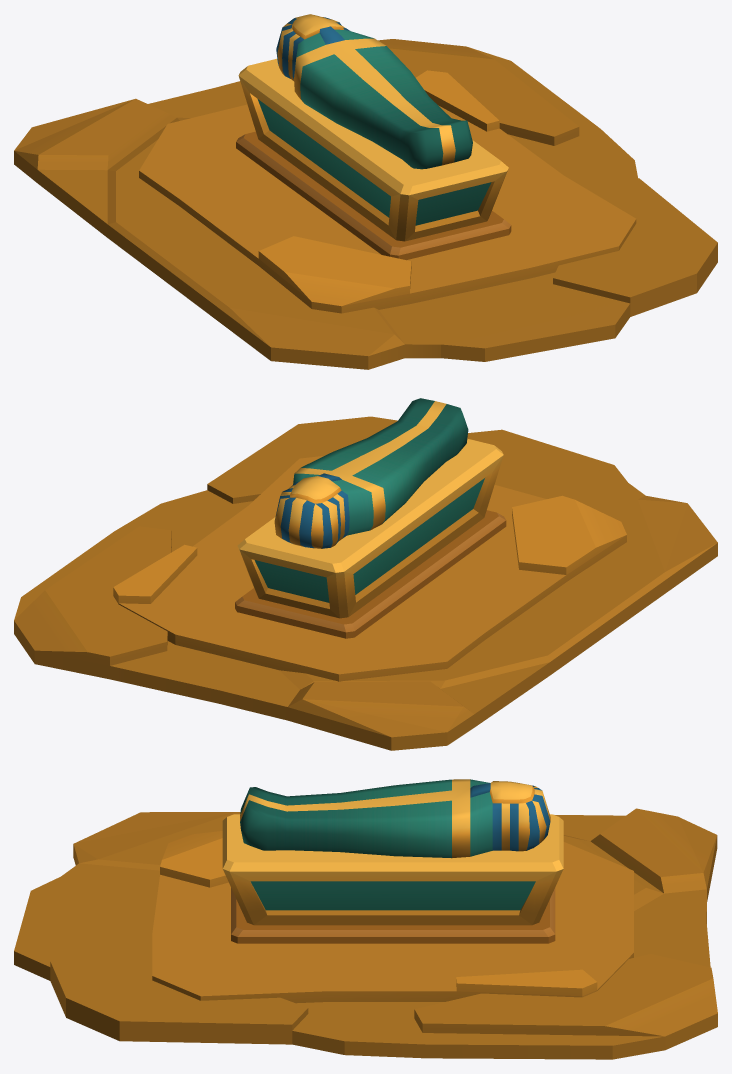
The model's file is Sarcophagus.fbx.
3 renders of one model, top to bottom at view 1: azimuth 30°, elevation 25°; view 2: azimuth 150°, elevation 25°; view 3: azimuth 270°, elevation 25°, orthographic. The views are drawn at different scales.
Parts seen in each view (by area): view 1: Tomb_Platform_01, Sarcophagus_stand, Sarcophagus; view 2: Tomb_Platform_01, Sarcophagus_stand, Sarcophagus; view 3: Tomb_Platform_01, Sarcophagus_stand, Sarcophagus.
Part boxes in pixels (x1=…): Tomb_Platform_01: x1=14, y1=39, x2=717, y2=369; Sarcophagus_stand: x1=236, y1=58, x2=511, y2=260; Sarcophagus: x1=276, y1=14, x2=472, y2=169; Tomb_Platform_01: x1=14, y1=416, x2=717, y2=750; Sarcophagus_stand: x1=235, y1=438, x2=506, y2=638; Sarcophagus: x1=274, y1=398, x2=468, y2=548; Tomb_Platform_01: x1=14, y1=808, x2=717, y2=1059; Sarcophagus_stand: x1=222, y1=814, x2=563, y2=943; Sarcophagus: x1=240, y1=779, x2=550, y2=858.
Size of the model in its own units: 477 by 145 by 607.
